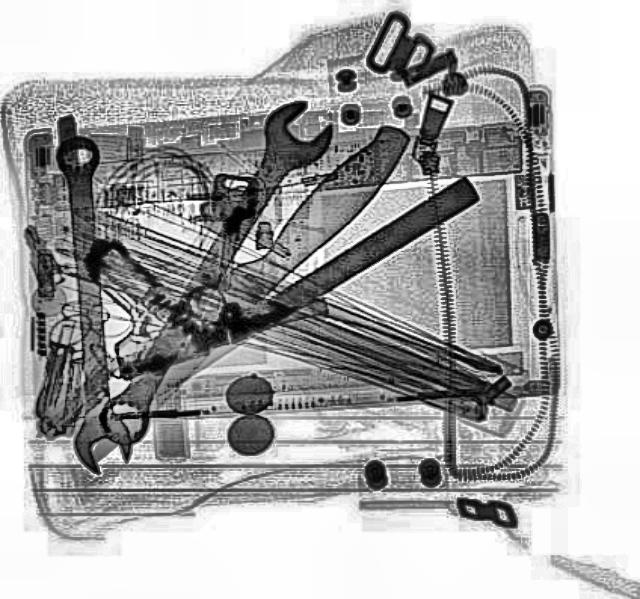Gun: (65, 185, 331, 379)
Knife: (88, 175, 478, 423), (130, 112, 420, 409)
Wrench: (78, 90, 342, 455), (38, 132, 134, 474)
